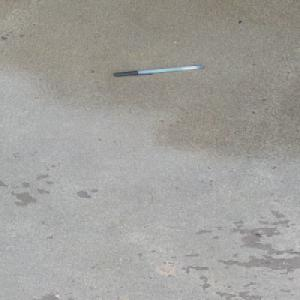Pen: (112, 64, 204, 77)
